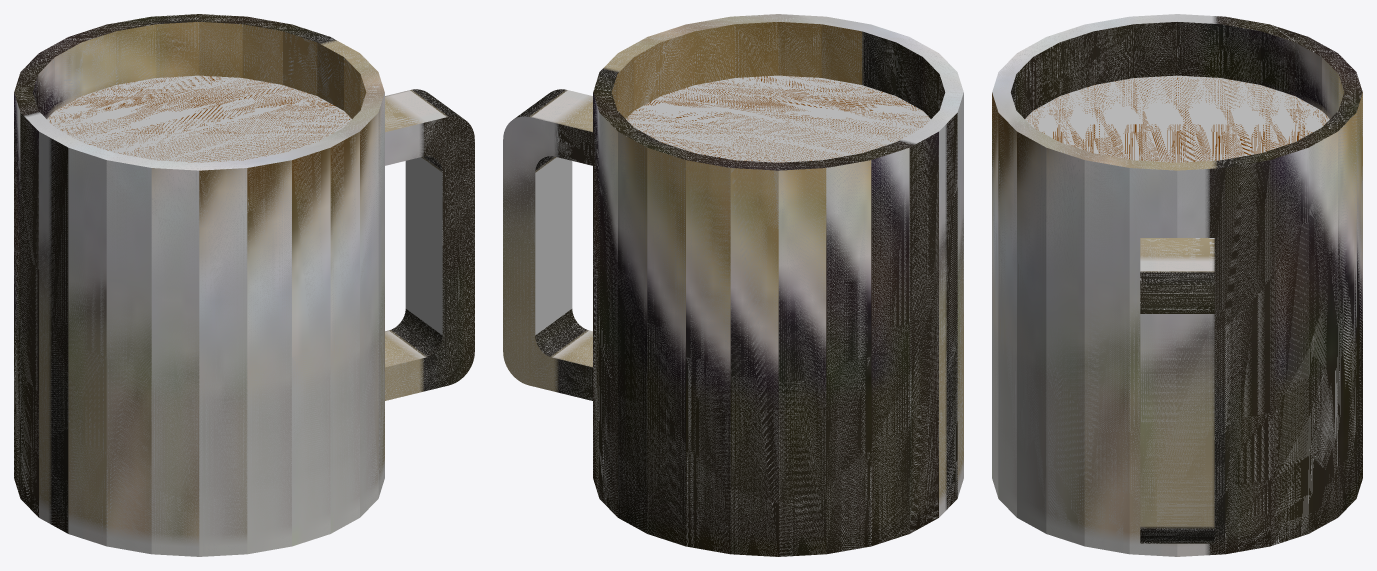
3 renders of one model, left to right at view 1: azimuth 30°, elevation 25°; view 2: azimuth 150°, elevation 25°; view 3: azimuth 270°, elevation 25°, orthographic.
Parts seen in each view (by area): view 1: mesh2_mesh2-geometry, mesh1_mesh1-geometry; view 2: mesh2_mesh2-geometry, mesh1_mesh1-geometry; view 3: mesh2_mesh2-geometry, mesh1_mesh1-geometry.
Boxes of the visible parts, x1,y1,x2,y2 form: mesh2_mesh2-geometry: [14, 14, 384, 556]; mesh1_mesh1-geometry: [385, 89, 474, 400]; mesh2_mesh2-geometry: [593, 14, 963, 556]; mesh1_mesh1-geometry: [503, 89, 592, 400]; mesh2_mesh2-geometry: [992, 14, 1362, 556]; mesh1_mesh1-geometry: [1140, 238, 1214, 543].
Bounding box in the file's own units: 0.649 × 0.5741 × 0.4992.
